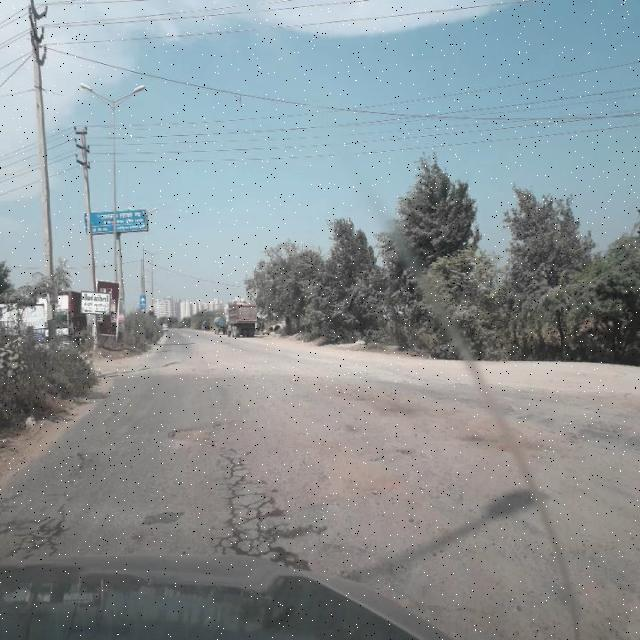D20: (201, 422, 321, 562), (6, 429, 89, 562)
D40: (314, 443, 418, 505), (462, 407, 566, 469), (329, 373, 435, 424), (160, 416, 227, 444)
